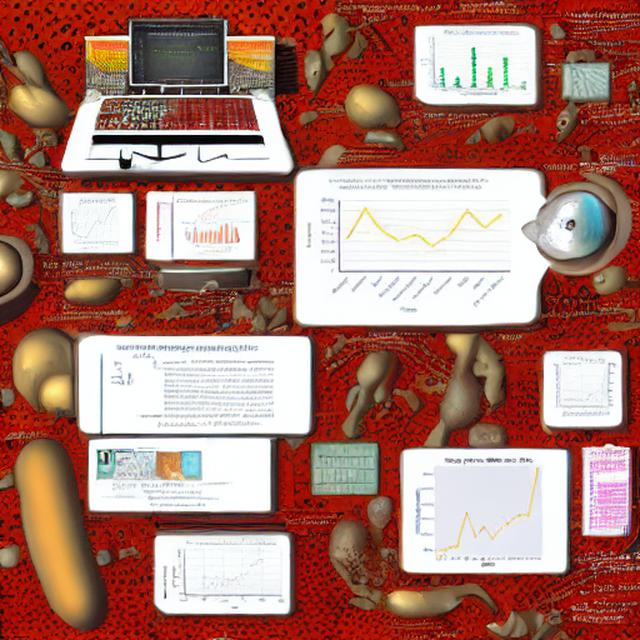Graph: (300, 176, 516, 313), (408, 451, 565, 569), (169, 540, 287, 611), (419, 29, 532, 99), (135, 31, 224, 84), (65, 198, 129, 246), (186, 220, 242, 254)
